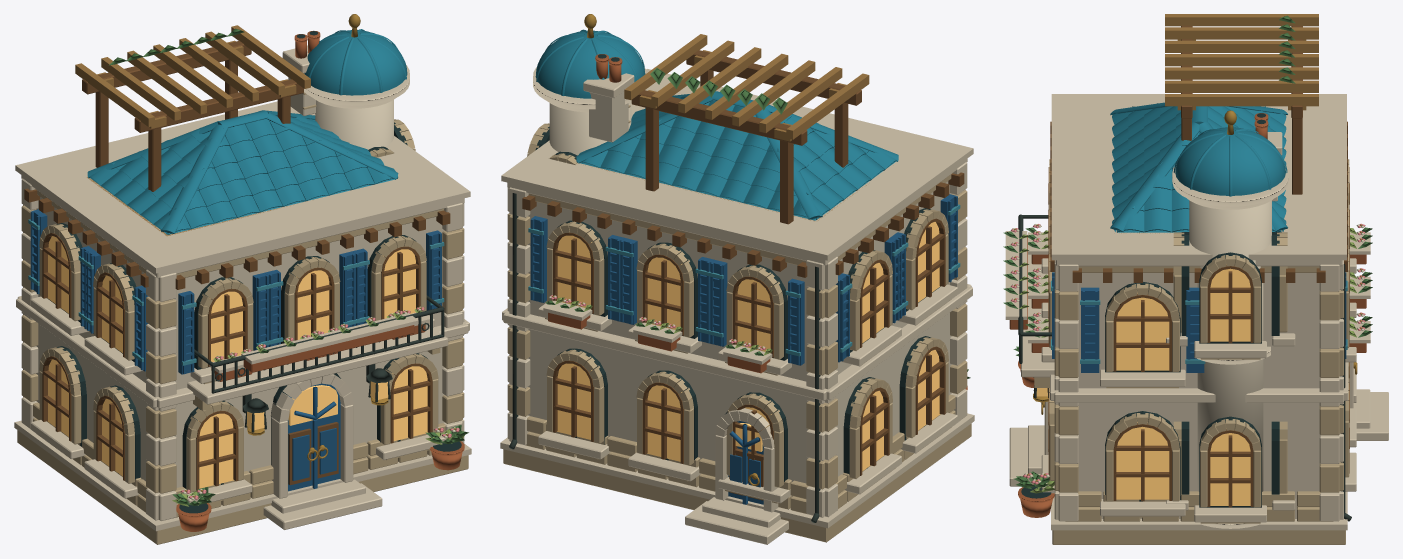
The picture shows the model from 3 angles, left to right: view 1: azimuth 30°, elevation 25°; view 2: azimuth 150°, elevation 25°; view 3: azimuth 270°, elevation 25°; orthographic projection. The views are drawn at different scales.
Parts seen in each view (by area): view 1: harbor_tower_2_geometry, harbor_tower_2_geometry ceramic; view 2: harbor_tower_2_geometry, harbor_tower_2_geometry ceramic; view 3: harbor_tower_2_geometry, harbor_tower_2_geometry ceramic.
Boxes of the visible parts, x1,y1,x2,y2 form: harbor_tower_2_geometry: [14, 14, 471, 544]; harbor_tower_2_geometry ceramic: [28, 29, 444, 365]; harbor_tower_2_geometry: [500, 14, 974, 544]; harbor_tower_2_geometry ceramic: [528, 29, 960, 356]; harbor_tower_2_geometry: [1003, 14, 1388, 544]; harbor_tower_2_geometry ceramic: [1051, 102, 1347, 363].
Bounding box in the file's own units: 0.99 × 1.1 × 0.913.
